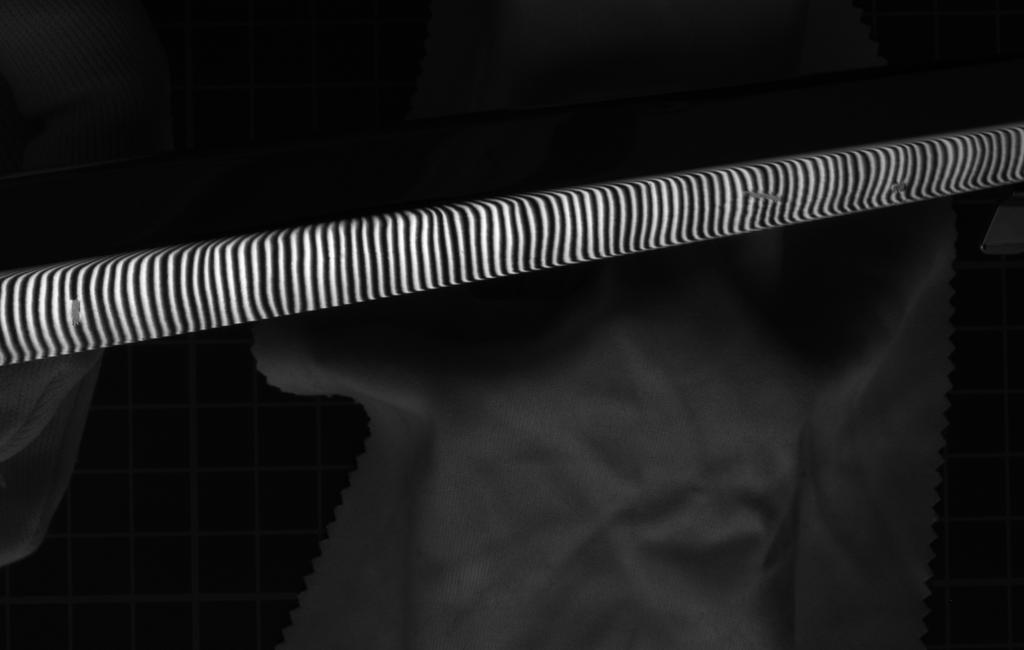Pierced: (889, 177, 912, 196)
Scratch: (739, 183, 799, 205), (69, 290, 87, 334)
